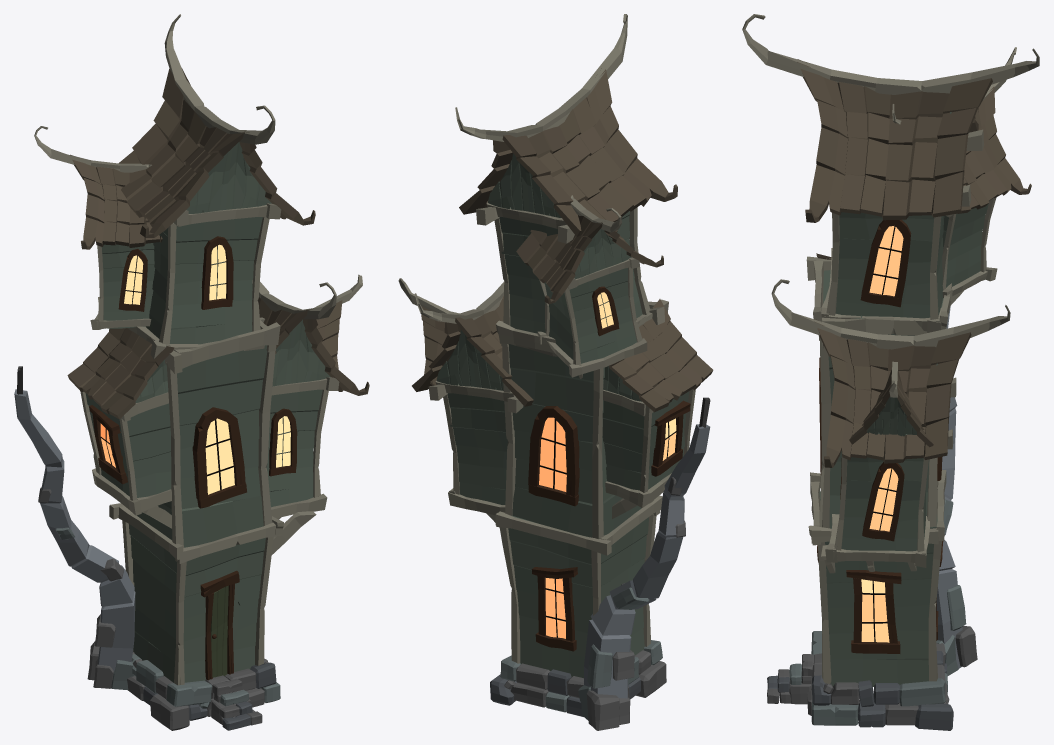
File: Mourning Manor - Halloween Asset Mansion.glb
3 views of the same model, side by side, from view 1: azimuth 30°, elevation 25°; view 2: azimuth 150°, elevation 25°; view 3: azimuth 270°, elevation 25° (orthographic). The views are drawn at different scales.
Parts seen in each view (by area): view 1: House Complete 2; view 2: House Complete 2; view 3: House Complete 2.
Part boxes in pixels (<box>): House Complete 2: <box>14,14,369,730</box>; House Complete 2: <box>398,14,713,730</box>; House Complete 2: <box>742,14,1039,730</box>.
Bounding box in the file's own units: 7.94 × 14.57 × 5.65.
